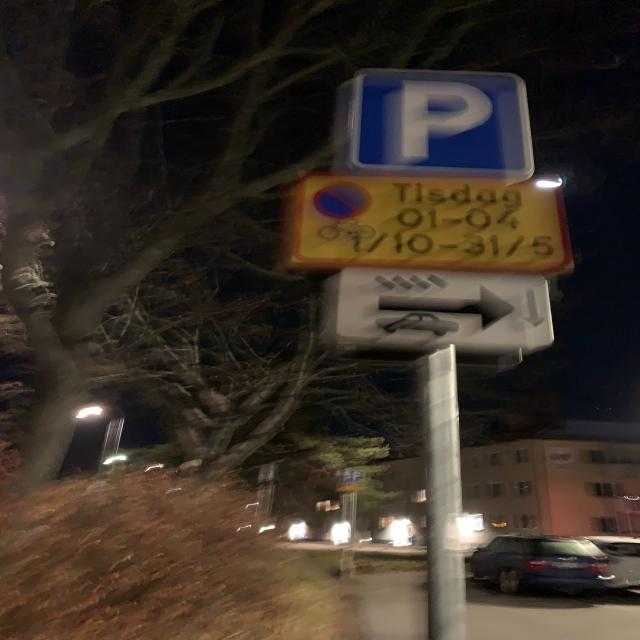psign: (353, 69, 534, 175)
